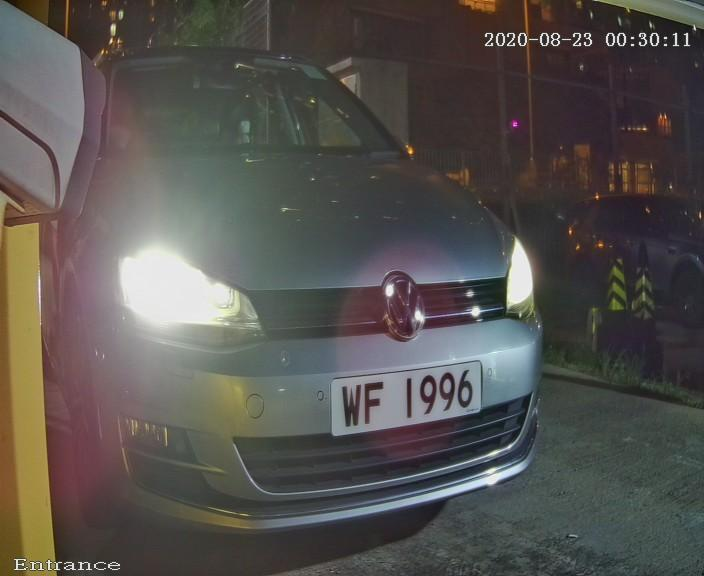Car: (1, 13, 620, 574)
License Plate: (301, 355, 500, 461)
